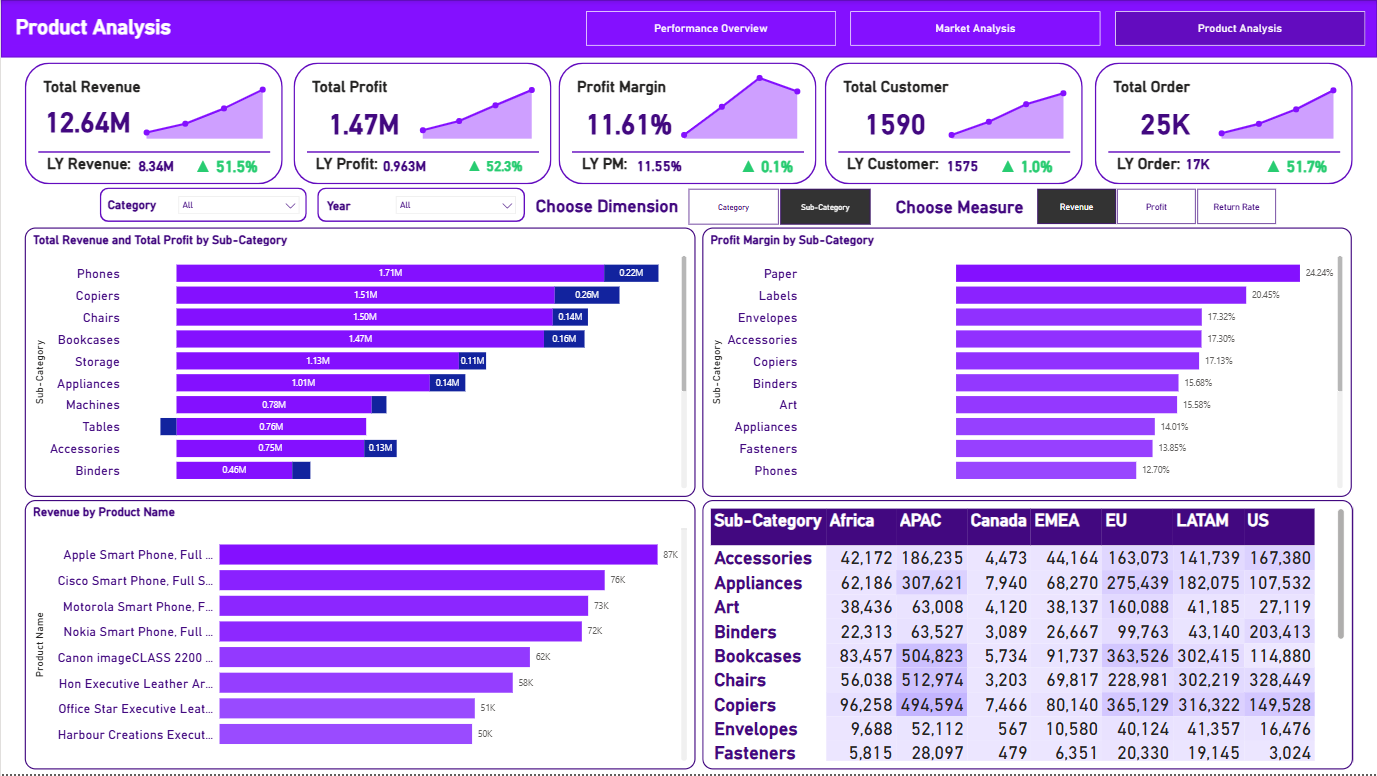

The page's visual inventory and layout, read from the dashboard file:
{"tool":"powerbi","page":{"name":"Product Analysis","canvas":[1920,1080],"ordinal":2},"visuals":[{"type":"group","id":"g1","title":"Navigate Bar","box":[0,0,1920,80],"z":0,"group":"g7"},{"type":"shape","box":[0,0,1920,80],"z":0,"group":"g1"},{"type":"group","id":"g2","title":"Revenue Key","box":[34,88,360,233.3],"z":0,"group":"g8"},{"type":"card","title":"Sales","fields":{"Values":["Measure.Total Revenue"]},"box":[42.3,140.9,158.6,56.3],"z":0,"group":"g2"},{"type":"card","title":"Sales","fields":{"Values":["Measure.Total Profit"]},"box":[427.3,144.7,158.3,55],"z":0,"group":"g3"},{"type":"card","title":"Sales","fields":{"Values":["Measure.Profit Margin"]},"box":[797.3,144.7,158.3,55],"z":0,"group":"g6"},{"type":"card","title":"Sales","fields":{"Values":["Measure.Total Customers"]},"box":[1169.3,144.7,158.3,55],"z":0,"group":"g5"},{"type":"card","title":"Sales","fields":{"Values":["Measure.Total Orders"]},"box":[1544.8,144.7,158.3,55],"z":0,"group":"g4"},{"type":"slicer","fields":{"Values":["Choice.Choice"]},"box":[934,256,304,64],"z":0,"group":"g10"},{"type":"shape","box":[137.2,261.6,289,48],"z":0,"group":"g12"},{"type":"shape","box":[442,262,290,48],"z":0,"group":"g11"},{"type":"textbox","box":[16,16,336,48],"z":1000,"group":"g1"},{"type":"group","id":"g3","title":"Profit Key","box":[409,88,360,233.3],"z":1000,"group":"g8"},{"type":"shape","box":[52.3,103,323.3,218.3],"z":1000,"group":"g2"},{"type":"shape","box":[427.3,103,323.3,218.3],"z":1000,"group":"g3"},{"type":"shape","box":[797.3,103,323.3,218.3],"z":1000,"group":"g6"},{"type":"shape","box":[1169.3,103,323.3,218.3],"z":1000,"group":"g5"},{"type":"shape","box":[1544.8,103,323.3,218.3],"z":1000,"group":"g4"},{"type":"slicer","title":"b","fields":{"Values":["Orders.Category","Orders.Sub-Category"]},"box":[236.1,262.7,188.9,47.8],"z":1000,"group":"g12"},{"type":"textbox","box":[742,268,272,48],"z":1000,"group":"g10"},{"type":"textbox","box":[1244,270,208,60],"z":1000,"group":"g9"},{"type":"textbox","box":[442,271.8,60,32.2],"z":1000,"group":"g11"},{"type":"slicer","fields":{"Values":["Measure 2.Measure"]},"box":[1419.6,256,383,63.3],"z":1500,"group":"g9"},{"type":"pageNavigator","box":[816,16,1088,48],"z":2000,"group":"g1"},{"type":"group","id":"g4","title":"Order Key","box":[1526.5,88,360,233.3],"z":2000,"group":"g8"},{"type":"lineChart","fields":{"Category":["Date.Year"],"Y":["Measure.Total Revenue"]},"box":[190,92.3,192,108],"z":2000,"group":"g2"},{"type":"lineChart","fields":{"Category":["Date.Year"],"Y":["Measure.Total Profit"]},"box":[575,92.3,182,108],"z":2000,"group":"g3"},{"type":"lineChart","fields":{"Category":["Date.Year"],"Y":["Measure.Profit Margin"]},"box":[939,92.3,188,108],"z":2000,"group":"g6"},{"type":"lineChart","fields":{"Category":["Date.Year"],"Y":["Measure.Total Customers"]},"box":[1313,92.3,186,108],"z":2000,"group":"g5"},{"type":"lineChart","fields":{"Category":["Date.Year"],"Y":["Measure.Total Orders"]},"box":[1689.5,92.3,186,108],"z":2000,"group":"g4"},{"type":"slicer","title":"b","fields":{"Values":["Date.Year","Date.Month No"]},"box":[540.9,264,187.8,45.6],"z":2000,"group":"g11"},{"type":"textbox","box":[137.2,270.5,90,32.2],"z":2000,"group":"g12"},{"type":"textbox","box":[16,80,240,64],"z":3000,"group":"g7"},{"type":"group","id":"g5","title":"Customer Key","box":[1151,88,360,233.3],"z":3000,"group":"g8"},{"type":"textbox","box":[55.7,103,170,41.7],"z":3000,"group":"g2"},{"type":"textbox","box":[430.7,103,170,41.7],"z":3000,"group":"g3"},{"type":"textbox","box":[800.7,103,170,41.7],"z":3000,"group":"g6"},{"type":"textbox","box":[1172.7,103,170,41.7],"z":3000,"group":"g5"},{"type":"textbox","box":[1548.2,103,170,41.7],"z":3000,"group":"g4"},{"type":"group","id":"g6","title":"Margin Key","box":[779,88,360,233.3],"z":4000,"group":"g8"},{"type":"textbox","box":[435.7,211.3,123.3,61.7],"z":4000,"group":"g3"},{"type":"textbox","box":[1553.2,211.3,123.3,61.7],"z":4000,"group":"g4"},{"type":"textbox","box":[60,212.3,136,60],"z":4000,"group":"g2"},{"type":"textbox","box":[807,212.3,150,60],"z":4000,"group":"g6"},{"type":"textbox","box":[1177,212.3,142,60],"z":4000,"group":"g5"},{"type":"card","title":"Sales","fields":{"Values":["Measure.Total Orders LY"]},"box":[1611.5,210.7,116,46],"z":5000,"group":"g4"},{"type":"card","title":"Sales","fields":{"Values":["Measure.Profit LY"]},"box":[507.3,211.3,115,46.7],"z":5000,"group":"g3"},{"type":"card","title":"Sales","fields":{"Values":["Measure.Revenue LY"]},"box":[160,212.3,116,46],"z":5000,"group":"g2"},{"type":"card","title":"Sales","fields":{"Values":["Measure.Customers LY"]},"box":[1285,212.3,116,46],"z":5000,"group":"g5"},{"type":"card","title":"Sales","fields":{"Values":["Measure.Profit Margin LY"]},"box":[863,212.7,114,46],"z":5000,"group":"g6"},{"type":"group","id":"g7","title":"Navigate","box":[0,0,1920,144],"z":6000},{"type":"card","title":"Sales","fields":{"Values":["Measure.Revenue YOY Display"]},"box":[264,211.3,101.7,46.7],"z":6000,"group":"g2"},{"type":"card","title":"Sales","fields":{"Values":["Measure.Profit YoY Display"]},"box":[639,211.3,101.7,46.7],"z":6000,"group":"g3"},{"type":"card","title":"Sales","fields":{"Values":["Measure.Customers YoY Display"]},"box":[1381,211.3,101.7,46.7],"z":6000,"group":"g5"},{"type":"card","title":"Sales","fields":{"Values":["Measure.Total Orders YoY Display"]},"box":[1756.5,211.3,101.7,46.7],"z":6000,"group":"g4"},{"type":"card","title":"Sales","fields":{"Values":["Measure.Profit Margin YoY Display"]},"box":[1010.7,211.8,116.9,45.9],"z":6000,"group":"g6"},{"type":"shape","box":[34,88,360,170],"z":7000,"group":"g2"},{"type":"shape","box":[409,88,360,170],"z":7000,"group":"g3"},{"type":"shape","box":[779,88,360,170],"z":7000,"group":"g6"},{"type":"shape","box":[1151,88,360,170],"z":7000,"group":"g5"},{"type":"shape","box":[1526.5,88,360,170],"z":7000,"group":"g4"},{"type":"barChart","fields":{"Category":["Orders.Sub-Category"],"Y":["Measure.Profit Margin"]},"box":[978,318,906,376],"z":7000},{"type":"barChart","fields":{"Category":["Orders.Sub-Category"],"Y":["Measure.Total Revenue","Measure.Total Profit"]},"box":[34,318,936,376],"z":8000},{"type":"clusteredBarChart","fields":{"Y":["Measure.Total Revenue"],"Category":["Orders.Product Name"]},"box":[34,698,936,376],"z":10000},{"type":"pivotTable","fields":{"Values":["Measure.Total Revenue"],"Rows":["Orders.Sub-Category"],"Columns":["Orders.Market"]},"box":[978,698,908,376],"z":12000},{"type":"group","id":"g8","title":"Key Metric","box":[34,88,1850,234],"z":13001},{"type":"group","id":"g9","title":"Measure","box":[1244,256,558.6,74],"z":13251},{"type":"group","id":"g10","title":"Dimension","box":[742,256,496,64],"z":13501},{"type":"group","id":"g11","title":"Year Filter","box":[442,262,290,48],"z":14001},{"type":"group","id":"g12","title":"Category Filter","box":[137.2,261.6,289,48.9],"z":14501}]}

Visuals, with their boxes in screenshot pixels (x1, y1, x2, y2), scaled from the page's 1920x1080 canvas onto the 1377x776 screenshot:
"Navigate Bar" group: bbox=(0, 0, 1376, 57)
shape: bbox=(0, 0, 1376, 57)
"Revenue Key" group: bbox=(24, 63, 283, 231)
"Sales" card: bbox=(30, 101, 144, 142)
"Sales" card: bbox=(306, 104, 420, 143)
"Sales" card: bbox=(572, 104, 685, 143)
"Sales" card: bbox=(839, 104, 952, 143)
"Sales" card: bbox=(1108, 104, 1221, 143)
slicer - Choice.Choice: bbox=(670, 184, 888, 230)
shape: bbox=(98, 188, 306, 222)
shape: bbox=(317, 188, 525, 223)
textbox: bbox=(11, 11, 252, 46)
"Profit Key" group: bbox=(293, 63, 552, 231)
shape: bbox=(38, 74, 269, 231)
shape: bbox=(306, 74, 538, 231)
shape: bbox=(572, 74, 804, 231)
shape: bbox=(839, 74, 1070, 231)
shape: bbox=(1108, 74, 1340, 231)
"b" slicer: bbox=(169, 189, 305, 223)
textbox: bbox=(532, 193, 727, 227)
textbox: bbox=(892, 194, 1041, 237)
textbox: bbox=(317, 195, 360, 218)
slicer - Measure 2.Measure: bbox=(1018, 184, 1293, 229)
pageNavigator: bbox=(585, 11, 1366, 46)
"Order Key" group: bbox=(1095, 63, 1353, 231)
lineChart - Date.Year x Measure.Total Revenue: bbox=(136, 66, 274, 144)
lineChart - Date.Year x Measure.Total Profit: bbox=(412, 66, 543, 144)
lineChart - Date.Year x Measure.Profit Margin: bbox=(673, 66, 808, 144)
lineChart - Date.Year x Measure.Total Customers: bbox=(942, 66, 1075, 144)
lineChart - Date.Year x Measure.Total Orders: bbox=(1212, 66, 1345, 144)
"b" slicer: bbox=(388, 190, 523, 222)
textbox: bbox=(98, 194, 163, 217)
textbox: bbox=(11, 57, 184, 103)
"Customer Key" group: bbox=(825, 63, 1084, 231)
textbox: bbox=(40, 74, 162, 104)
textbox: bbox=(309, 74, 431, 104)
textbox: bbox=(574, 74, 696, 104)
textbox: bbox=(841, 74, 963, 104)
textbox: bbox=(1110, 74, 1232, 104)
"Margin Key" group: bbox=(559, 63, 817, 231)
textbox: bbox=(312, 152, 401, 196)
textbox: bbox=(1114, 152, 1202, 196)
textbox: bbox=(43, 153, 141, 196)
textbox: bbox=(579, 153, 686, 196)
textbox: bbox=(844, 153, 946, 196)
"Sales" card: bbox=(1156, 151, 1239, 184)
"Sales" card: bbox=(364, 152, 446, 185)
"Sales" card: bbox=(115, 153, 198, 186)
"Sales" card: bbox=(922, 153, 1005, 186)
"Sales" card: bbox=(619, 153, 701, 186)
"Navigate" group: bbox=(0, 0, 1376, 103)
"Sales" card: bbox=(189, 152, 262, 185)
"Sales" card: bbox=(458, 152, 531, 185)
"Sales" card: bbox=(990, 152, 1063, 185)
"Sales" card: bbox=(1260, 152, 1333, 185)
"Sales" card: bbox=(725, 152, 809, 185)
shape: bbox=(24, 63, 283, 185)
shape: bbox=(293, 63, 552, 185)
shape: bbox=(559, 63, 817, 185)
shape: bbox=(825, 63, 1084, 185)
shape: bbox=(1095, 63, 1353, 185)
barChart - Orders.Sub-Category x Measure.Profit Margin: bbox=(701, 228, 1351, 499)
barChart - Orders.Sub-Category x Measure.Total Revenue: bbox=(24, 228, 696, 499)
clusteredBarChart - Measure.Total Revenue x Orders.Product Name: bbox=(24, 502, 696, 772)
pivotTable - Measure.Total Revenue x Orders.Sub-Category: bbox=(701, 502, 1353, 772)
"Key Metric" group: bbox=(24, 63, 1351, 231)
"Measure" group: bbox=(892, 184, 1293, 237)
"Dimension" group: bbox=(532, 184, 888, 230)
"Year Filter" group: bbox=(317, 188, 525, 223)
"Category Filter" group: bbox=(98, 188, 306, 223)
